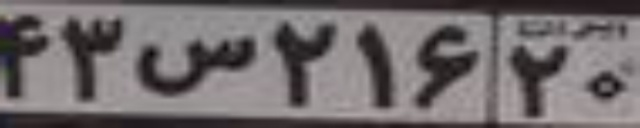0: (583, 71, 628, 101)
1: (352, 23, 396, 105)
2: (271, 21, 338, 106), (509, 41, 567, 117)
3: (60, 13, 127, 99)
4: (3, 12, 42, 96)
6: (406, 23, 479, 106)
sin: (136, 33, 255, 97)
